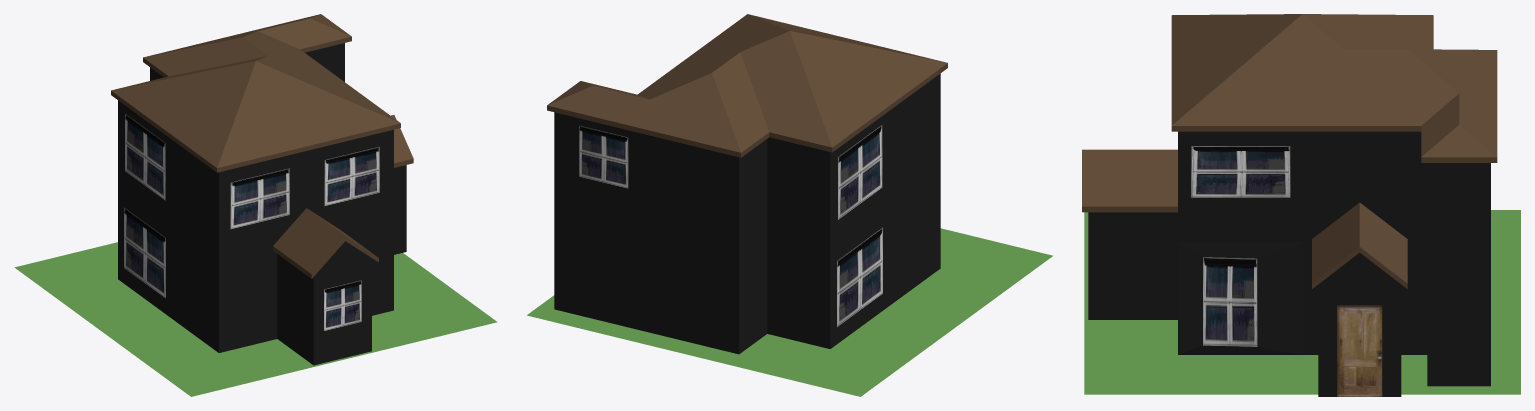
Rendered from House.004.gltf.
3 renders of one model, left to right at view 1: azimuth 30°, elevation 25°; view 2: azimuth 150°, elevation 25°; view 3: azimuth 270°, elevation 25°, orthographic. The views are drawn at different scales.
Parts seen in each view (by area): view 1: building_014, Plane.007; view 2: building_014, Plane.007; view 3: building_014, Plane.007.
Part boxes in pixels (x1,y1,x2,y2): building_014: (111, 14, 413, 365); Plane.007: (14, 242, 497, 396); building_014: (547, 14, 947, 354); Plane.007: (527, 228, 1052, 396); building_014: (1082, 14, 1497, 396); Plane.007: (1084, 210, 1520, 394).
Bounding box in the file's own units: 7.19 × 5.1 × 7.04.
5 materials, 2 textured.
